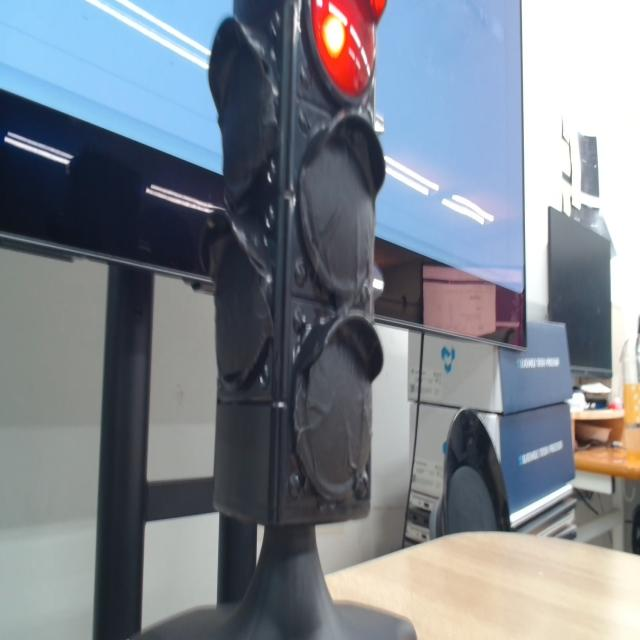red_light: (311, 0, 377, 98), (322, 15, 345, 58), (370, 0, 386, 23)
